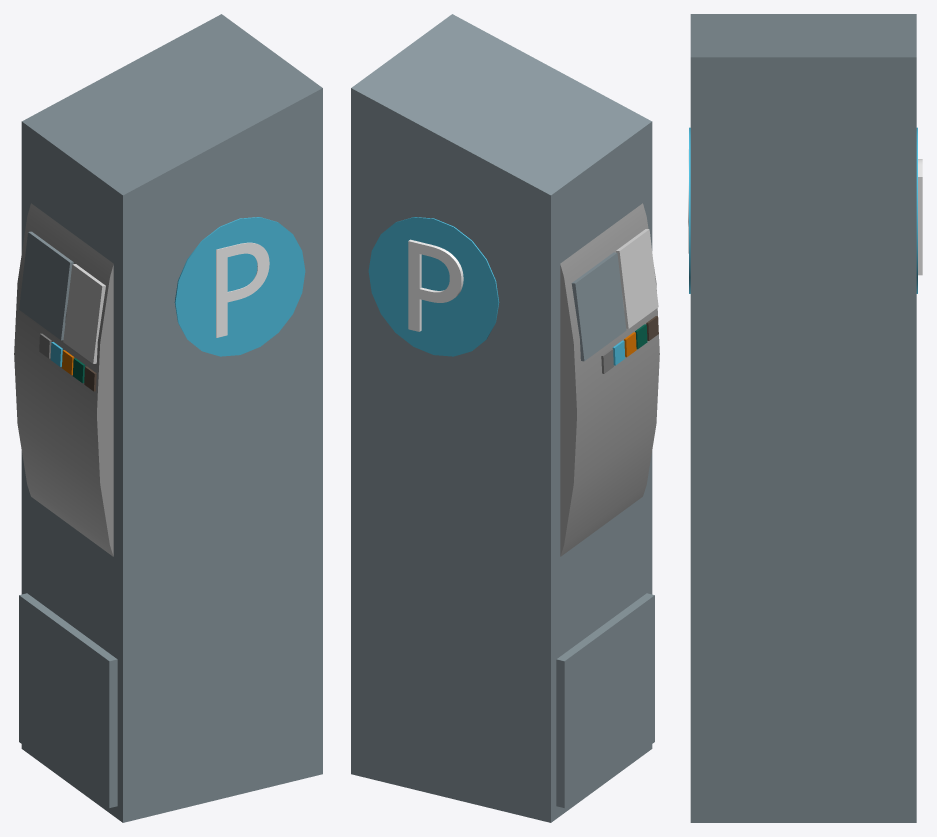
Rendered from ParkSign.fbx.
The picture shows the model from 3 angles, left to right: view 1: azimuth 30°, elevation 25°; view 2: azimuth 150°, elevation 25°; view 3: azimuth 270°, elevation 25°; orthographic projection. The views are drawn at different scales.
Parts seen in each view (by area): view 1: Base.002, Panel, pCube4, Emblem, Screen, Screen1, P1; view 2: Base.002, Panel, pCube4, Emblem, Screen, Screen1, P; view 3: Base.002, Emblem, P.
Boxes of the visible parts, left/top/right/bottom form: Base.002: left=21, top=14, right=322, bottom=822; Panel: left=14, top=203, right=113, bottom=556; pCube4: left=19, top=593, right=117, bottom=807; Emblem: left=174, top=217, right=305, bottom=356; Screen: left=19, top=231, right=73, bottom=340; Screen1: left=63, top=264, right=105, bottom=363; P1: left=216, top=242, right=269, bottom=337; Base.002: left=351, top=14, right=652, bottom=822; Panel: left=560, top=203, right=659, bottom=556; pCube4: left=556, top=593, right=654, bottom=807; Emblem: left=368, top=217, right=499, bottom=356; Screen: left=571, top=252, right=626, bottom=361; Screen1: left=616, top=229, right=658, bottom=328; P: left=408, top=239, right=463, bottom=331; Base.002: left=690, top=14, right=916, bottom=822; Emblem: left=689, top=127, right=917, bottom=293; P: left=918, top=159, right=922, bottom=275.
Size of the model in its own units: 47.99 by 144 by 40.06.
